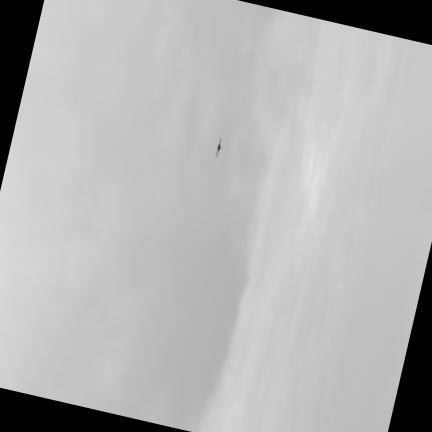Shahed: (217, 137, 221, 156)
